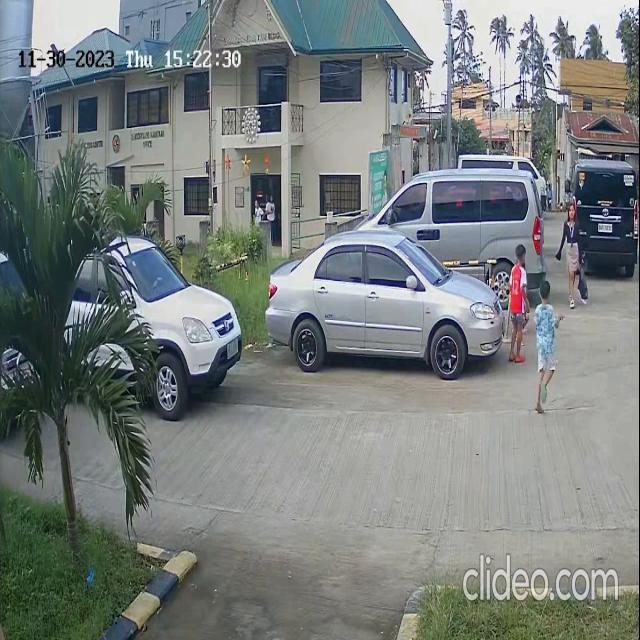person: (531, 277, 557, 398), (508, 242, 530, 369), (562, 198, 584, 307)
